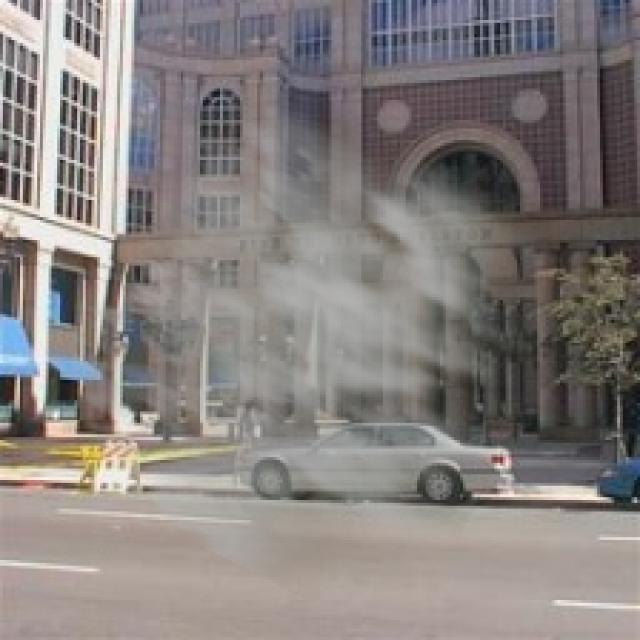smoke: (51, 83, 606, 606)
